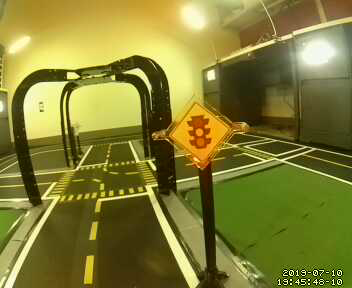Traffic light sign: (171, 101, 231, 168)
